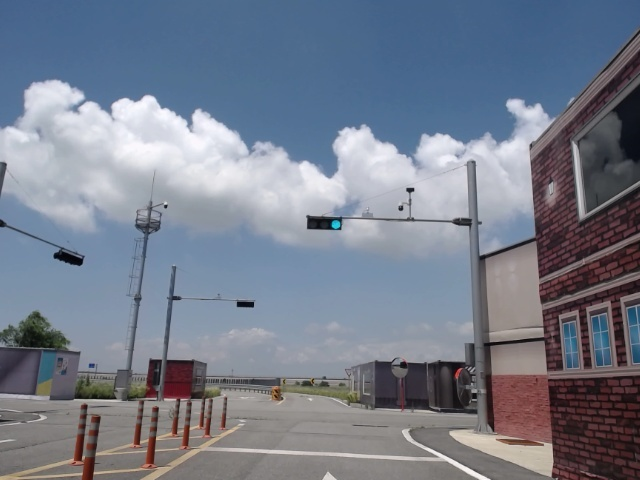green_3: (308, 217, 342, 230)
